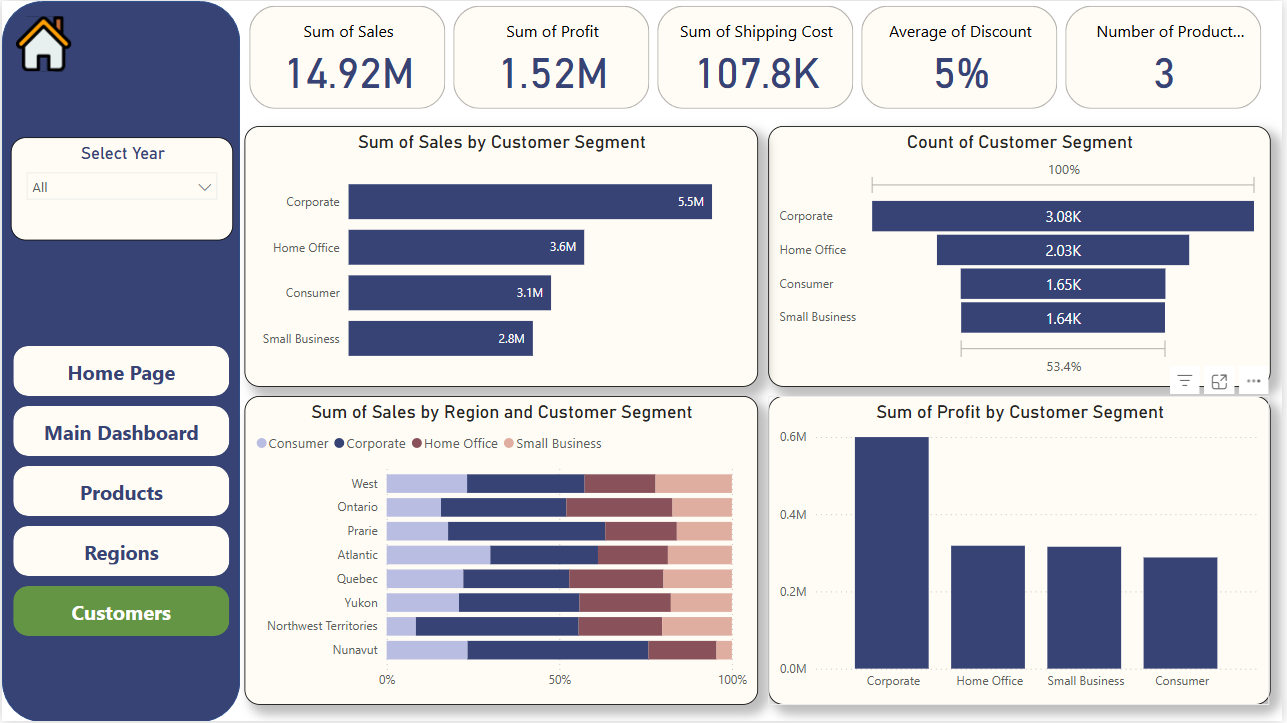

This screenshot's page, from the dashboard's own definition file:
{"tool":"powerbi","page":{"name":"Customers","canvas":[1280,720],"ordinal":4},"visuals":[{"type":"cardVisual","fields":{"Data":["Sum(Final Data.Sales)","Sum(Final Data.Profit)","Sum(Final Data.Shipping Cost)","Avg(Final Data.Discount)","Count(Final Data.Product Category)"]},"box":[242.9,0,1025,113.9],"z":0},{"type":"funnel","title":"Count of Customer Segment","fields":{"Category":["Final Data.Customer Segment"],"Y":["CountNonNull(Final Data.Customer Segment)"]},"box":[765.7,124.9,502.2,260.7],"z":1000},{"type":"clusteredBarChart","fields":{"Category":["Final Data.Customer Segment"],"Y":["Sum(Final Data.Sales)"]},"box":[242.9,124.9,513.2,260.7],"z":2000},{"type":"hundredPercentStackedBarChart","title":"Sum of Sales by Region and Customer Segment","fields":{"Category":["Final Data.Region"],"Series":["Final Data.Customer Segment"],"Y":["Sum(Final Data.Sales)"]},"box":[242.9,395.2,513.2,308.7],"z":3000},{"type":"columnChart","fields":{"Category":["Final Data.Customer Segment"],"Y":["Sum(Final Data.Profit)"]},"box":[765.7,395.2,502.2,308.7],"z":4000},{"type":"pageNavigator","box":[11,344.4,216.8,293.7],"z":5000},{"type":"slicer","title":"Select Year","fields":{"Values":["Final Data.Order Date.Variation.Date Hierarchy.Year"]},"box":[8.5,136.6,222.5,102.8],"z":6000},{"type":"actionButton","box":[9.9,11.3,78.9,63.4],"z":7000}]}

Visuals, with their boxes in screenshot pixels (x1, y1, x2, y2), scaled from the page's 1280x720 canvas onto the 1287x723 screenshot:
cardVisual - Sum(Final Data.Sales) x Sum(Final Data.Profit): (244,0,1275,114)
"Count of Customer Segment" funnel: (770,125,1275,387)
clusteredBarChart - Final Data.Customer Segment x Sum(Final Data.Sales): (244,125,760,387)
"Sum of Sales by Region and Customer Segment" hundredPercentStackedBarChart: (244,397,760,707)
columnChart - Final Data.Customer Segment x Sum(Final Data.Profit): (770,397,1275,707)
pageNavigator: (11,346,229,641)
"Select Year" slicer: (9,137,232,240)
actionButton: (10,11,89,75)
